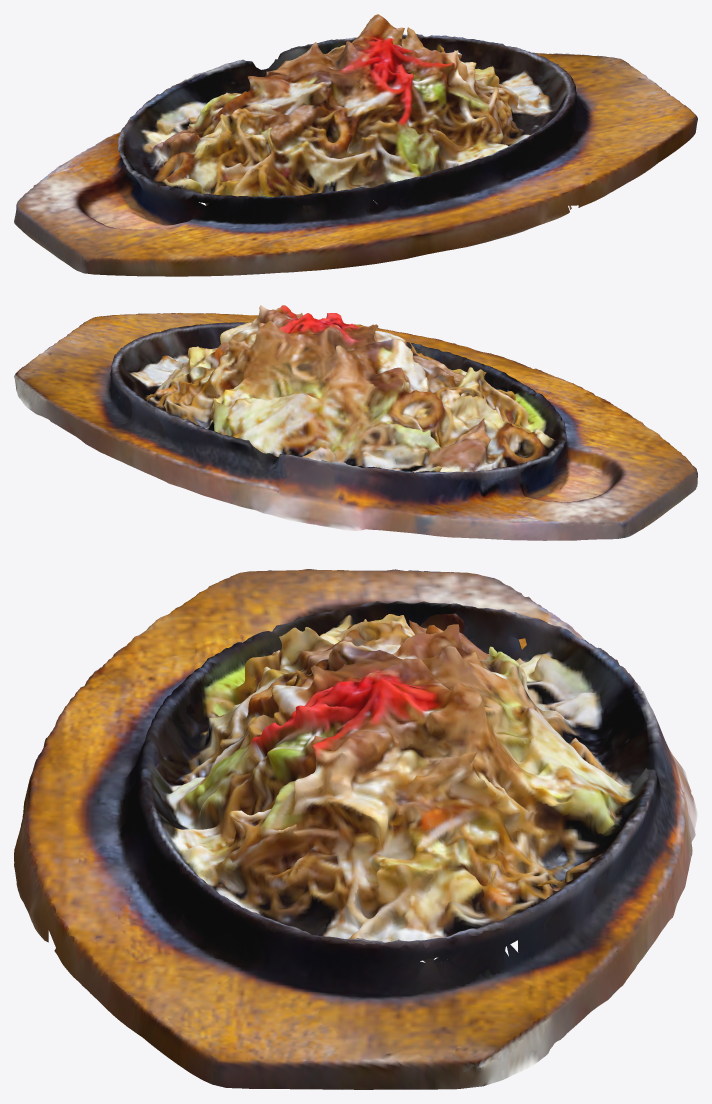
Rendered from yakisoba.glb.
3 renders of one model, top to bottom at view 1: azimuth 30°, elevation 25°; view 2: azimuth 150°, elevation 25°; view 3: azimuth 270°, elevation 25°, orthographic. The views are drawn at different scales.
Visible parts, largest first — view 1: Object_3, Object_2, Object_4; view 2: Object_3, Object_2, Object_4; view 3: Object_3, Object_2, Object_4.
Boxes of the visible parts, x1=… form: Object_3: x1=14, y1=14, x2=697, y2=276; Object_2: x1=16, y1=27, x2=697, y2=273; Object_4: x1=112, y1=29, x2=658, y2=265; Object_3: x1=18, y1=305, x2=697, y2=540; Object_2: x1=14, y1=305, x2=697, y2=540; Object_4: x1=21, y1=317, x2=677, y2=496; Object_3: x1=14, y1=569, x2=691, y2=1089; Object_2: x1=30, y1=579, x2=697, y2=1089; Object_4: x1=79, y1=595, x2=688, y2=1059.
Size of the model in its own units: 0.389 by 0.0745 by 0.2257.
1 material, 1 textured.
